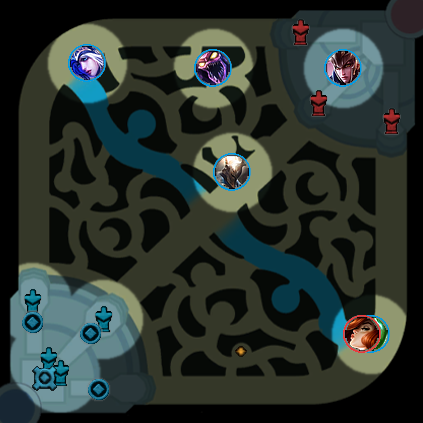Ashe: (68, 44, 106, 82)
MissFortune: (343, 315, 381, 353)
Pantheon: (213, 153, 251, 191)
Quinn: (324, 49, 362, 87)
Skarner: (194, 49, 232, 87)
Zac: (352, 315, 390, 353)
